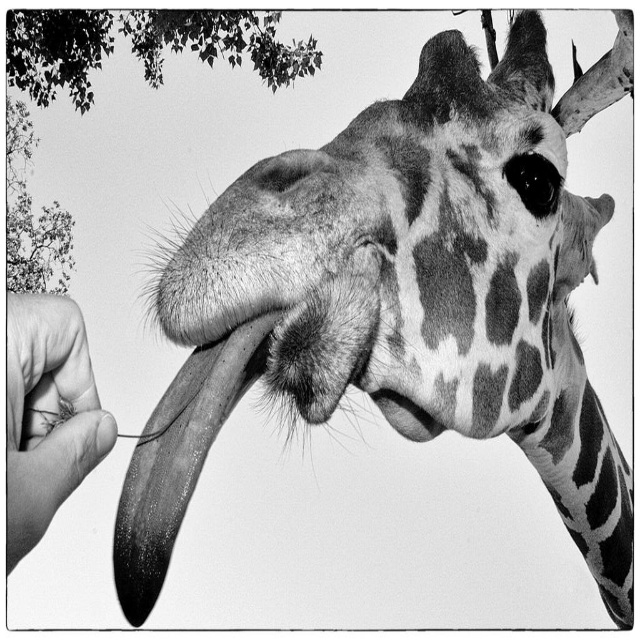Giraffe: (113, 0, 640, 639)
